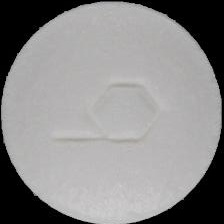68788-9899: (0, 0, 224, 224)
